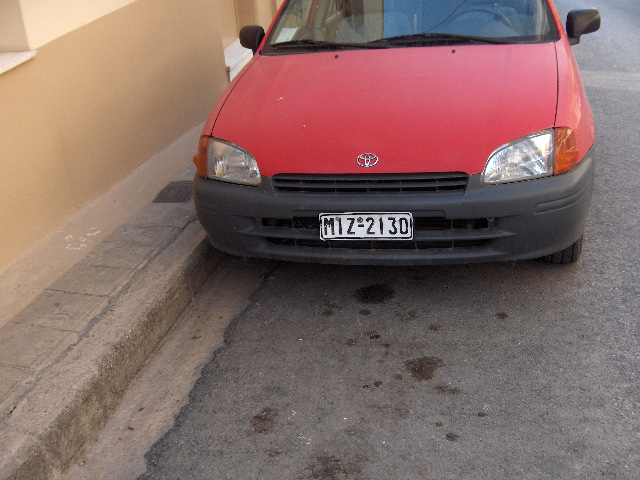licenseplate: (317, 210, 414, 242)
